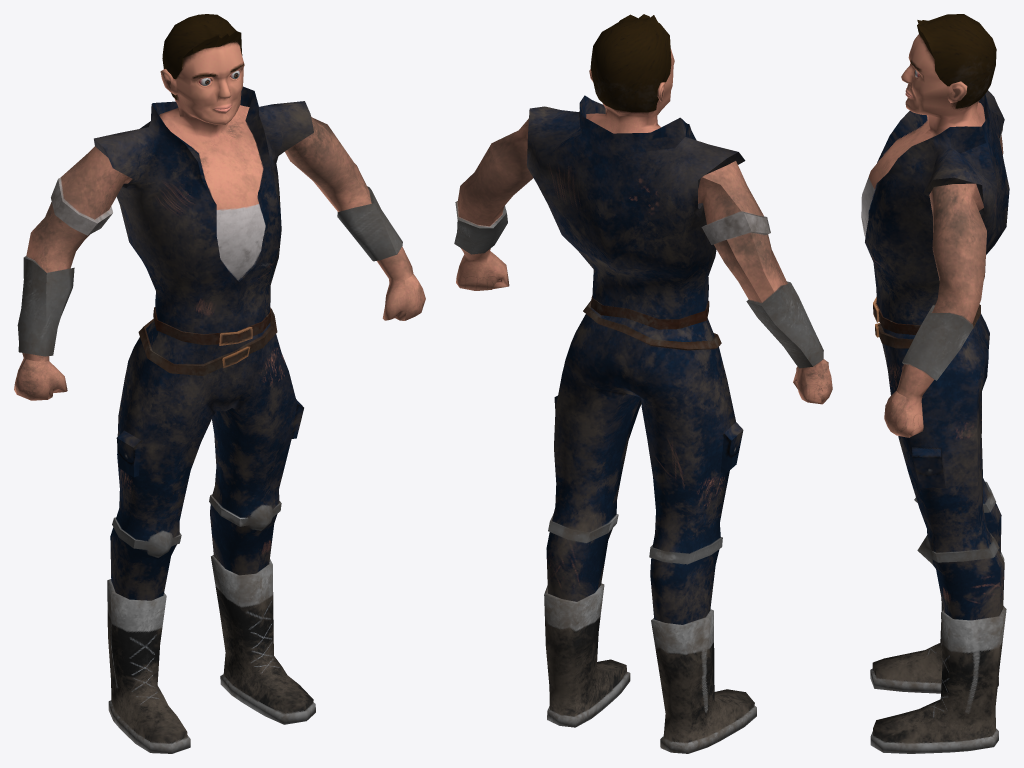
Rendered from Anim_idle_jugador.0027.obj.
3 renders of one model, left to right at view 1: azimuth 30°, elevation 25°; view 2: azimuth 150°, elevation 25°; view 3: azimuth 270°, elevation 25°, orthographic.
Visible parts, largest first — view 1: polySurface1; view 2: polySurface1; view 3: polySurface1.
Boxes of the visible parts, x1,y1,x2,y2 form: polySurface1: [14, 14, 425, 753]; polySurface1: [454, 14, 832, 753]; polySurface1: [861, 14, 1009, 753].
Bounding box in the file's own units: 5.65 × 9.65 × 1.86.
